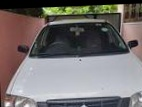car: (3, 17, 142, 107)
